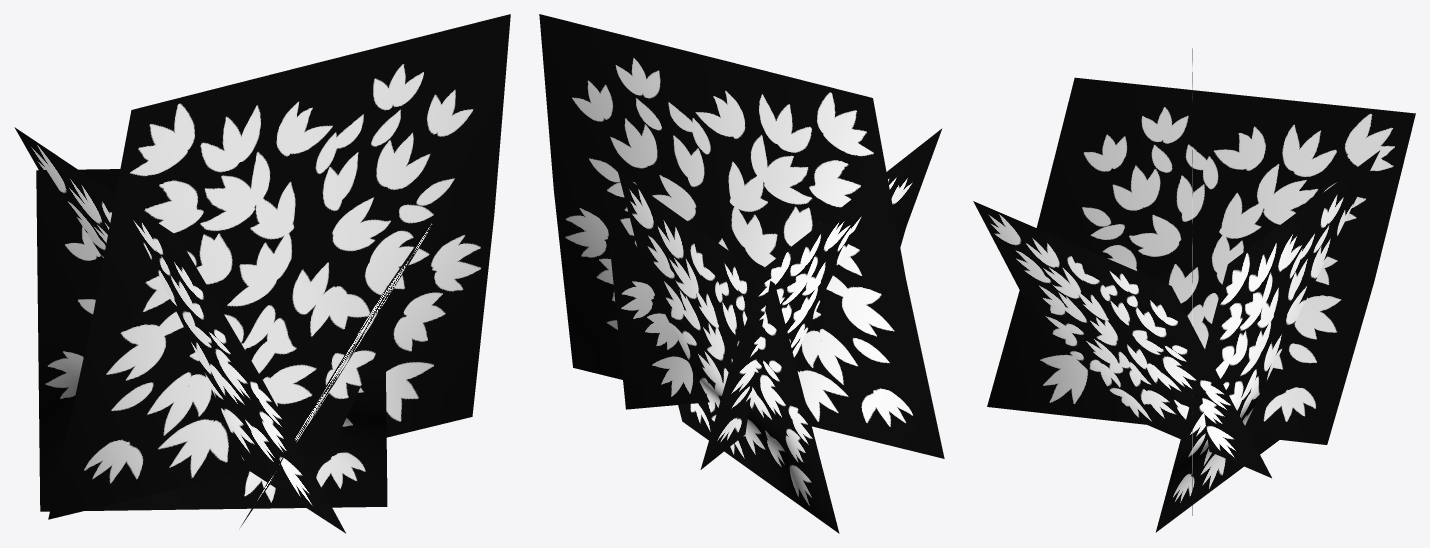
Rendered from P_DesertBushB01.obj.
3 views of the same model, side by side, from view 1: azimuth 30°, elevation 25°; view 2: azimuth 150°, elevation 25°; view 3: azimuth 270°, elevation 25° (orthographic). The views are drawn at different scales.
Bounding box in the file's own units: 2.97 × 2.74 × 2.64.
